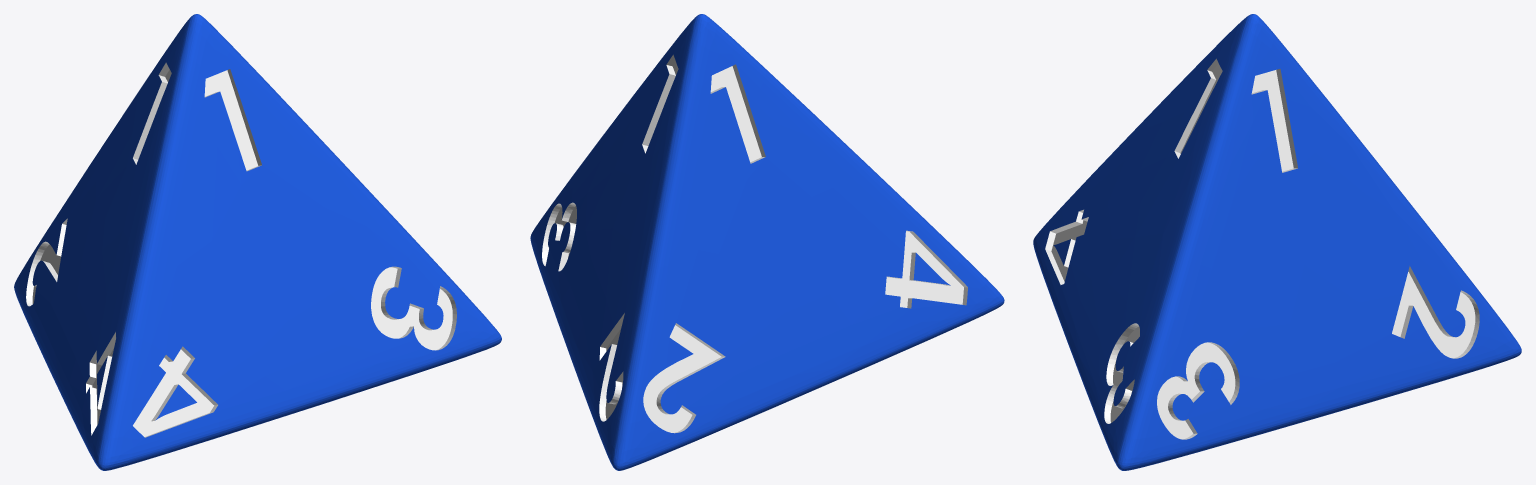
3 views of the same model, side by side, from view 1: azimuth 30°, elevation 25°; view 2: azimuth 150°, elevation 25°; view 3: azimuth 270°, elevation 25° (orthographic). The views are drawn at different scales.
Parts seen in each view (by area): view 1: D4 Base; view 2: D4 Base; view 3: D4 Base.
Part boxes in pixels (bbox=[...]): D4 Base: bbox=[14, 14, 501, 470]; D4 Base: bbox=[530, 14, 1004, 470]; D4 Base: bbox=[1033, 14, 1521, 470].
Bounding box in the file's own units: 37.26 × 29.16 × 35.37.
